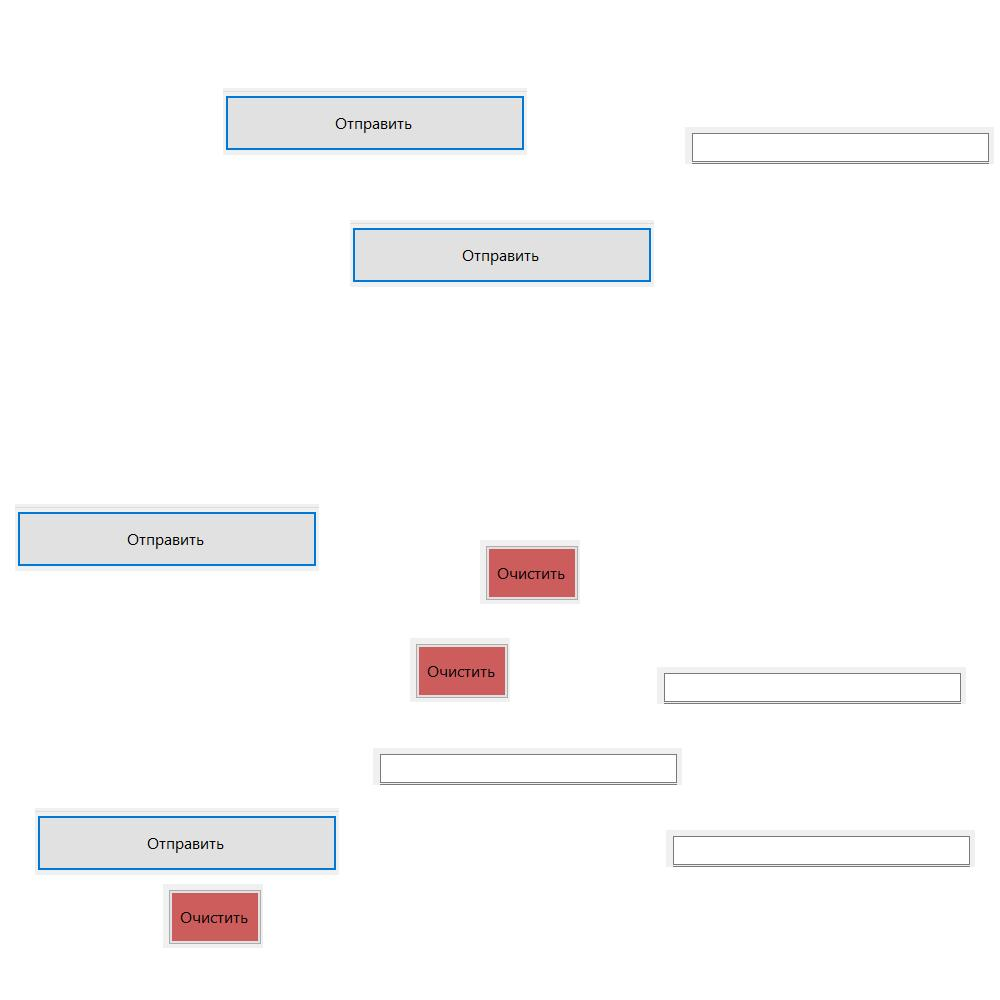Button: (350, 220, 654, 287), (35, 808, 339, 875), (15, 504, 319, 571), (223, 88, 527, 155), (410, 638, 510, 702), (480, 540, 580, 604), (163, 884, 263, 948)
EditText-: (685, 127, 994, 164), (666, 830, 975, 867), (373, 748, 682, 785), (657, 667, 966, 704)
